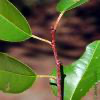Cherry leaf: (45, 36, 99, 99), (1, 0, 40, 42)
